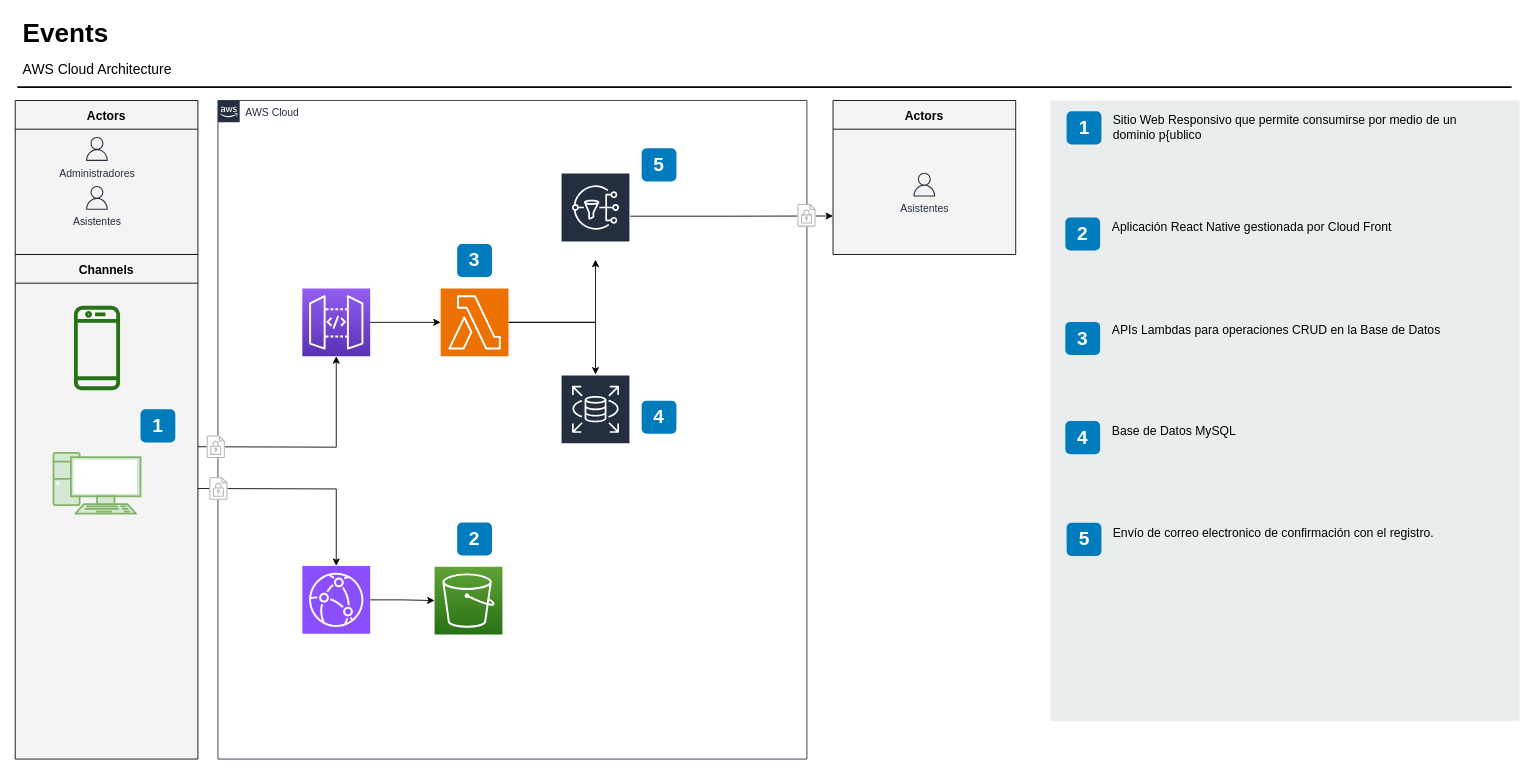
Some shapes in this 1535 by 774 pixel diagram are drawn without their labels. Each missing label, with the box of its shape:
Amazon API Gateway: (301, 288, 370, 356)
Amazon RDS: (560, 374, 630, 462)
Amazon S3: (434, 566, 502, 634)
Amazon SNS: (560, 172, 630, 260)
AWS Cloudfront Distribution: (301, 565, 370, 634)
AWS Lambda APIs: (440, 288, 509, 356)
Mobile / Web: (74, 304, 120, 391)
PC / Web: (52, 452, 141, 514)
